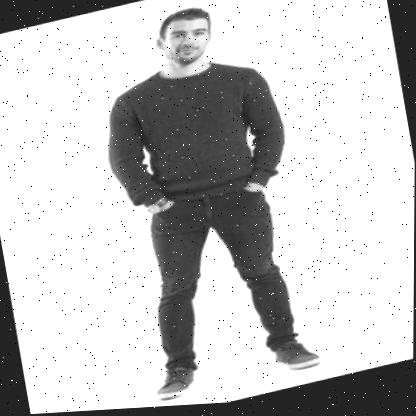person: (83, 0, 327, 409)
